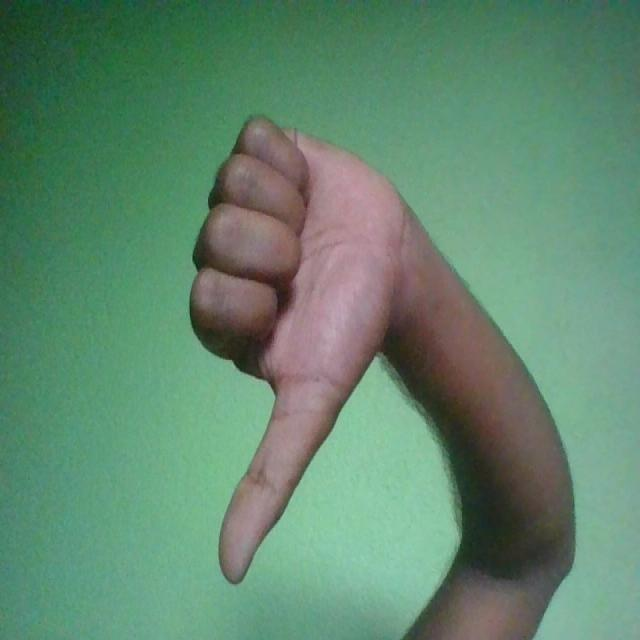Dislike: (192, 117, 408, 586)
